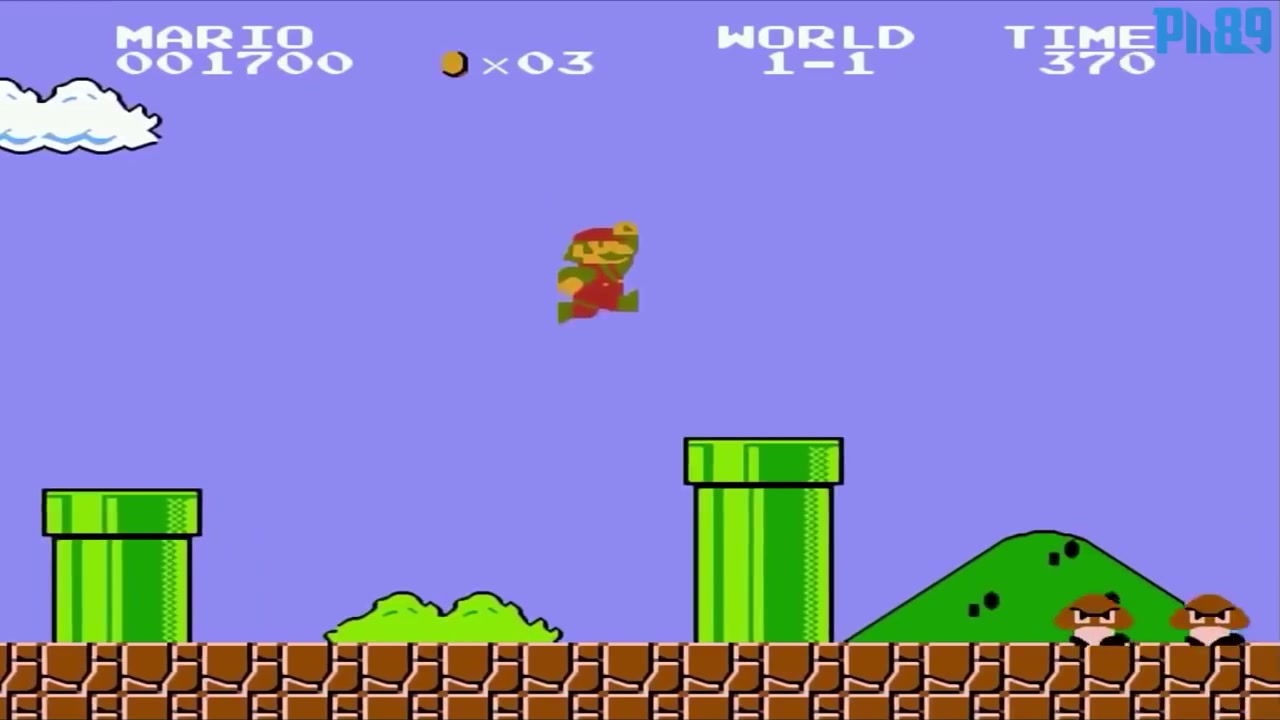mario: (548, 214, 643, 329)
